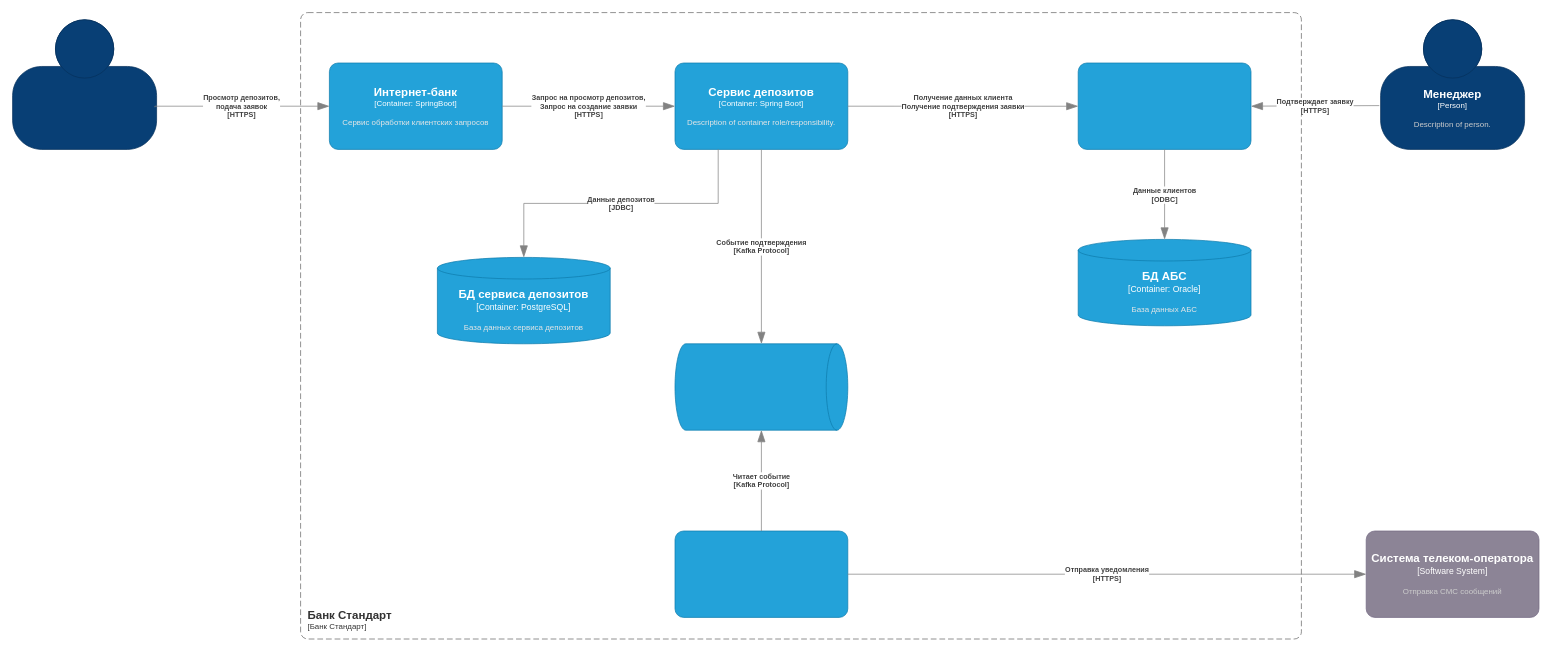
Image size: 1552x652. Some labels were removed from this diagram. Each missing label, with the centre of its shape:
АБС [Container: Delphi] Автоматизированная банковская система: point 1164,105
Клиент [Person] Description of person.: point 84,84
СМС-шлюз [Container: Spring Boot] Отправка СМС в систему телеком-оператора: point 761,573
Событийная шина [Container: Apache Kafka] Шина обмена событиями: point 761,386
